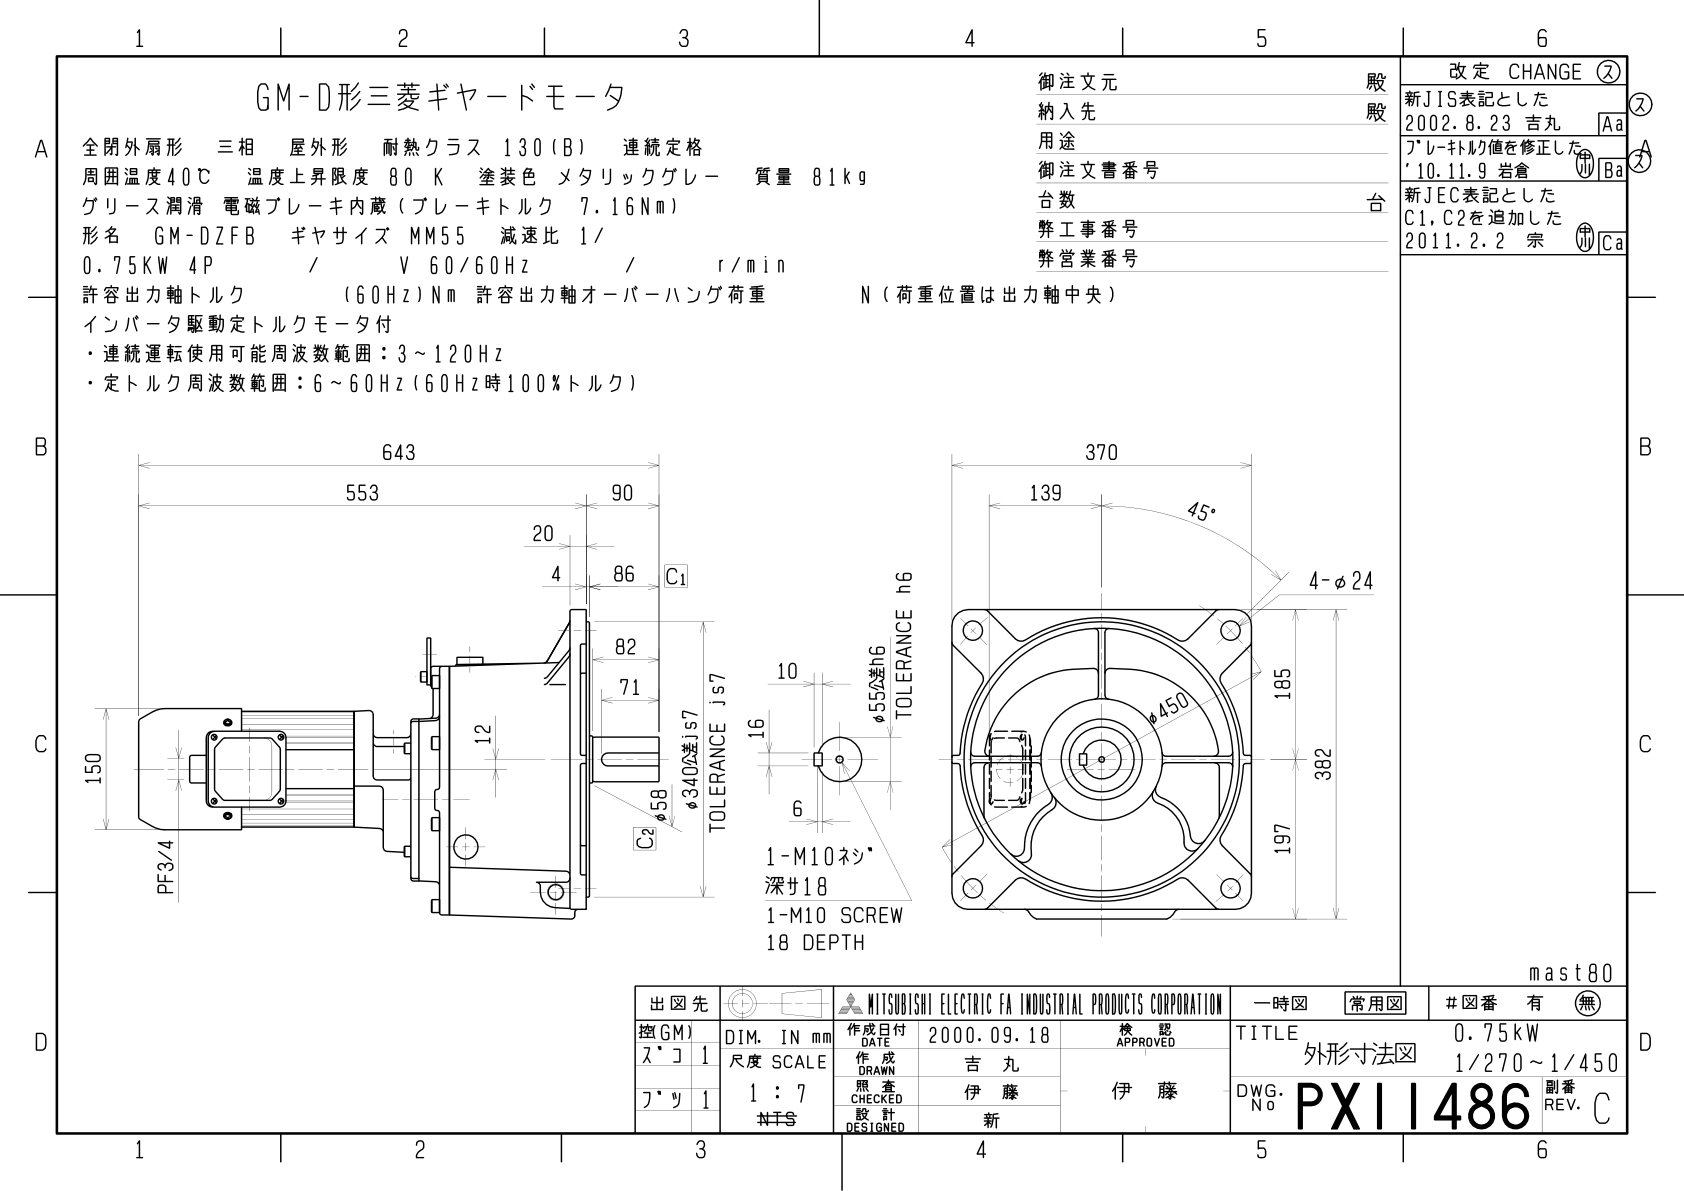GM_D_インバータ屋外_三相_フランジ: (70, 410, 1392, 965)
